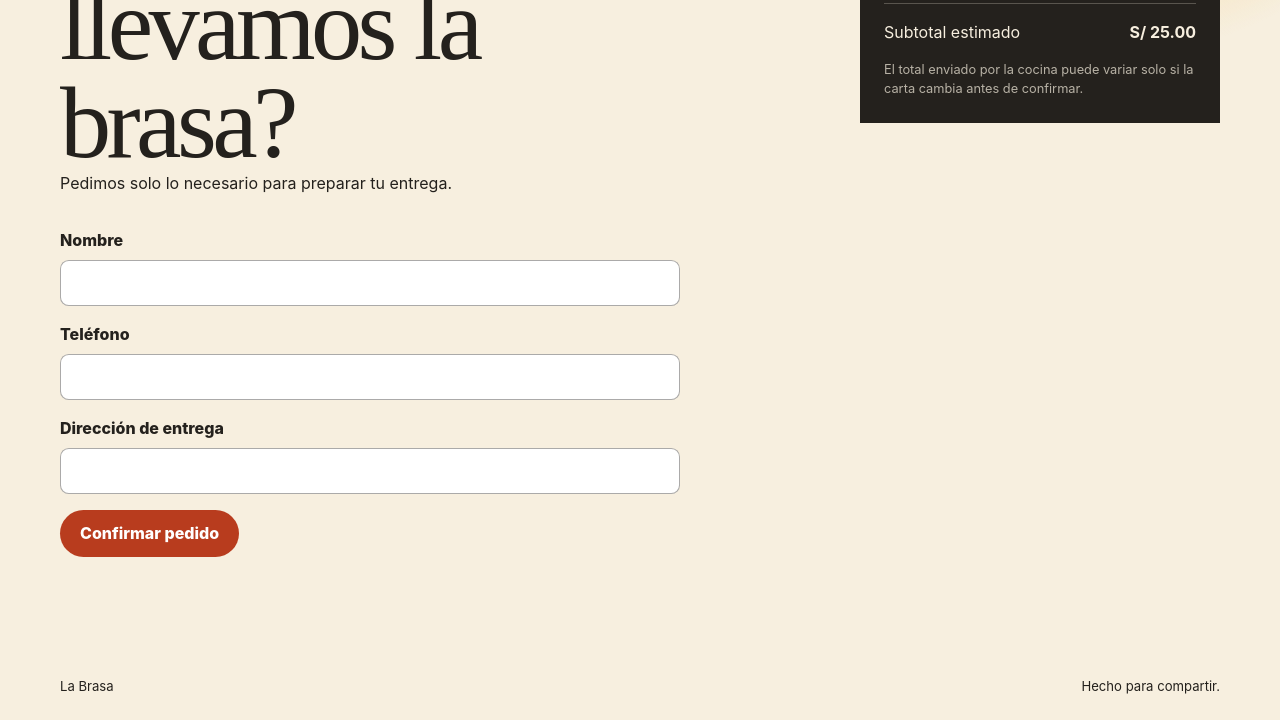
Test: cart and checkout › validates guest fields, sends no local total, retries with the same key, and displays the authoritative confirmation
The image size is (1280, 720).
(page scrolled)
Click the button "Confirmar pedido".
click(150, 534)  # box [60,510,239,557]
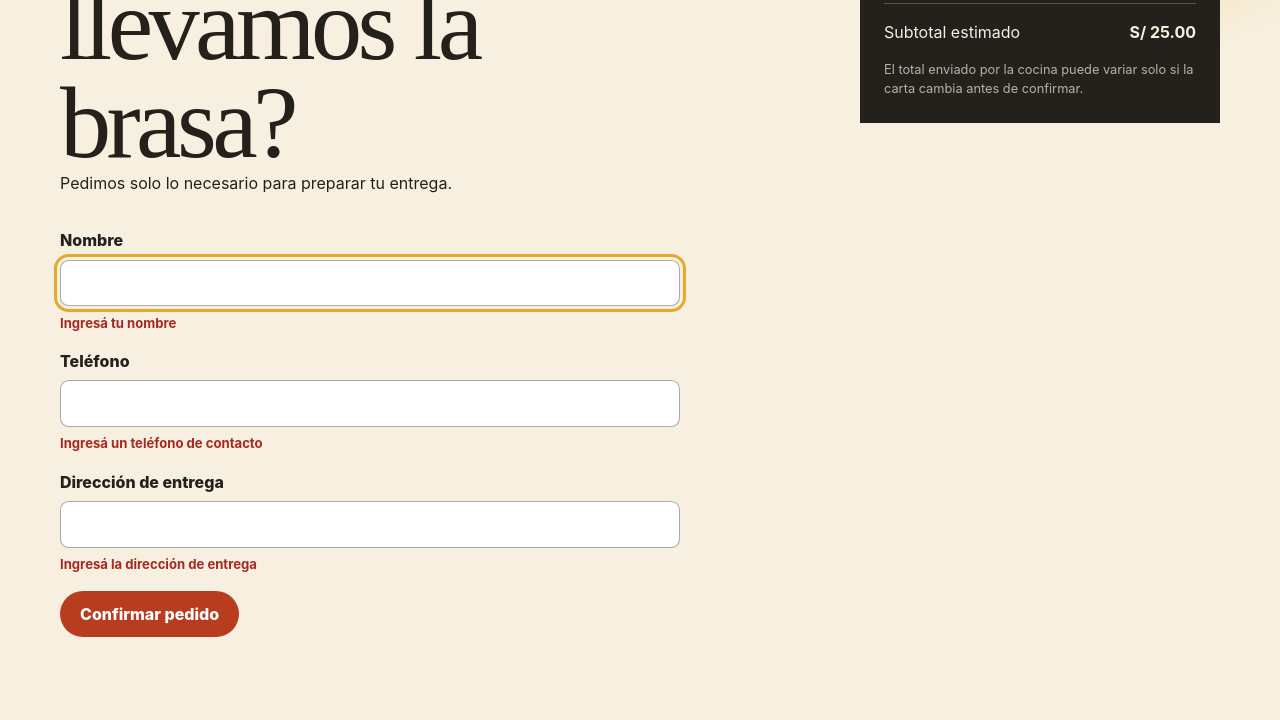
Result: the text "Ingresá tu nombre" is shown at [60,314,176,330]
Type "Ana" into the field labelled "Nombre".
click(370, 283); type("Ana")  # box [60,260,680,306]
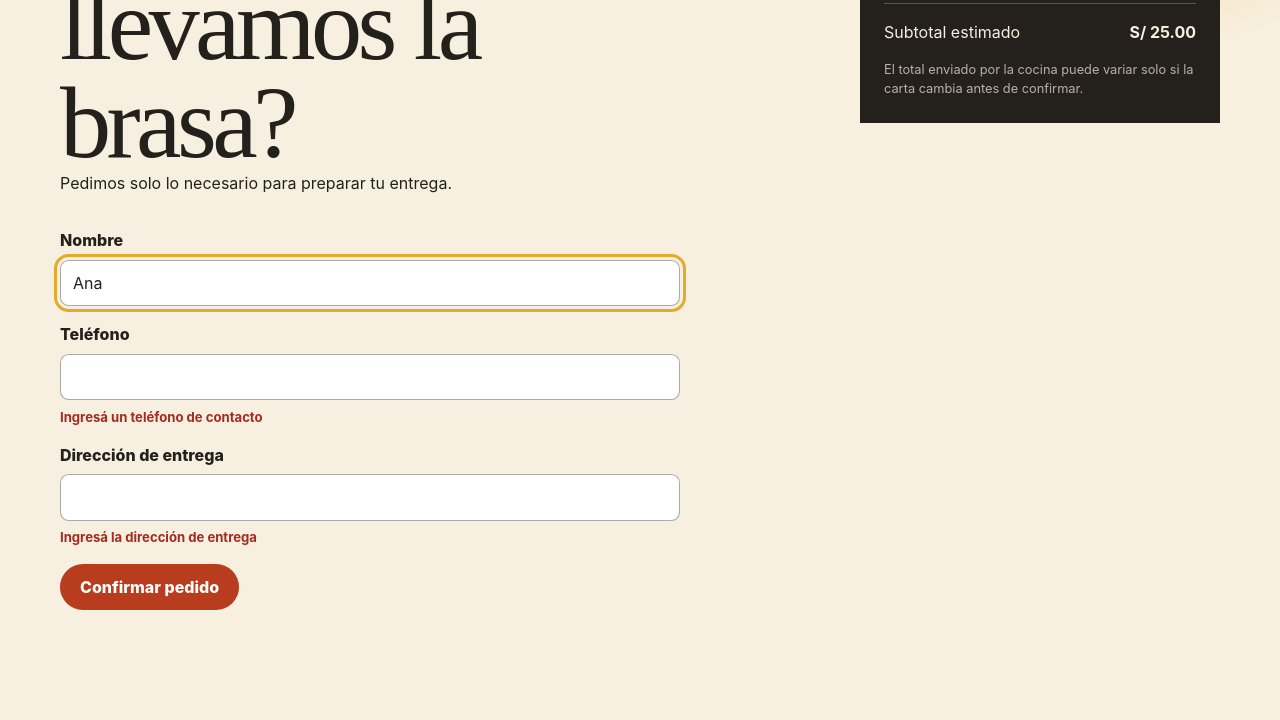
Type "999 555 444" into the field labelled "Teléfono".
click(370, 377); type("999 555 444")  # box [60,354,680,400]
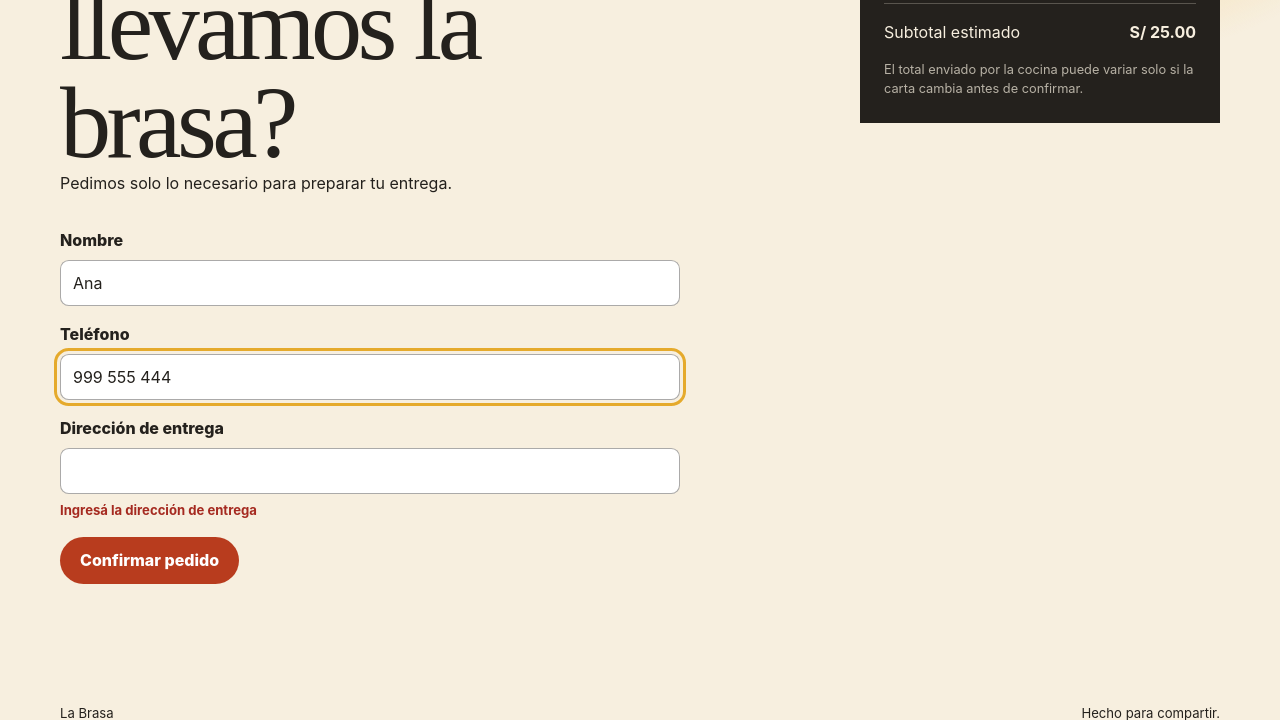
Type "Av. Lima 123" into the field labelled "Dirección de entrega".
click(370, 471); type("Av. Lima 123")  # box [60,448,680,494]
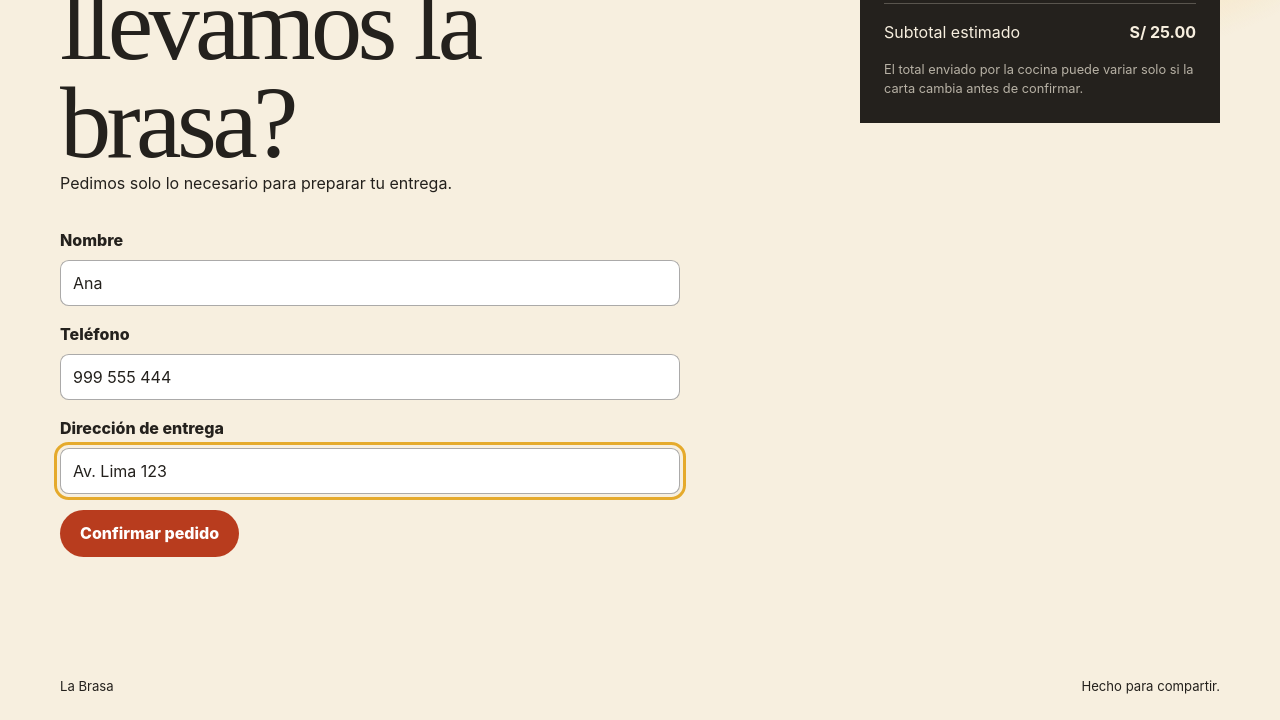
Click the button "Confirmar pedido".
click(150, 534)  # box [60,510,239,557]
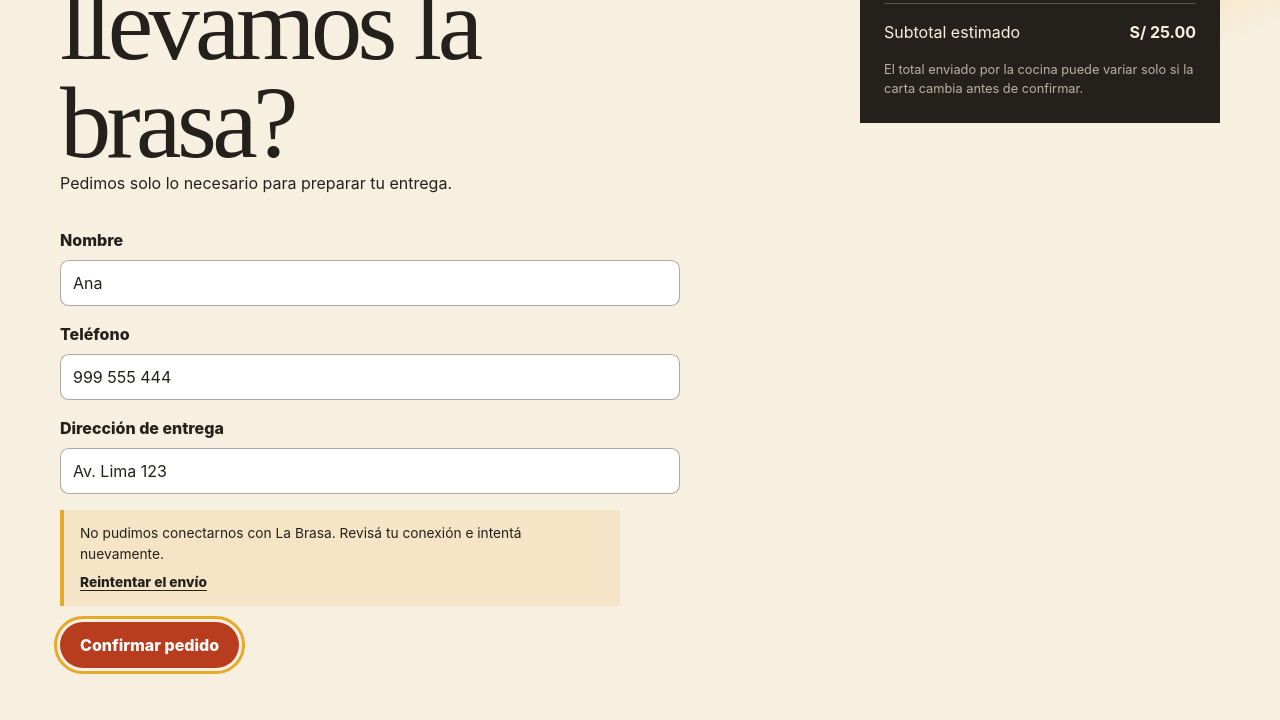
Result: the text "No pudimos conectarnos" is shown at [80,525,522,562]
Click the button "Reintentar el envío".
click(143, 583)  # box [80,572,207,593]
(page scrolled)
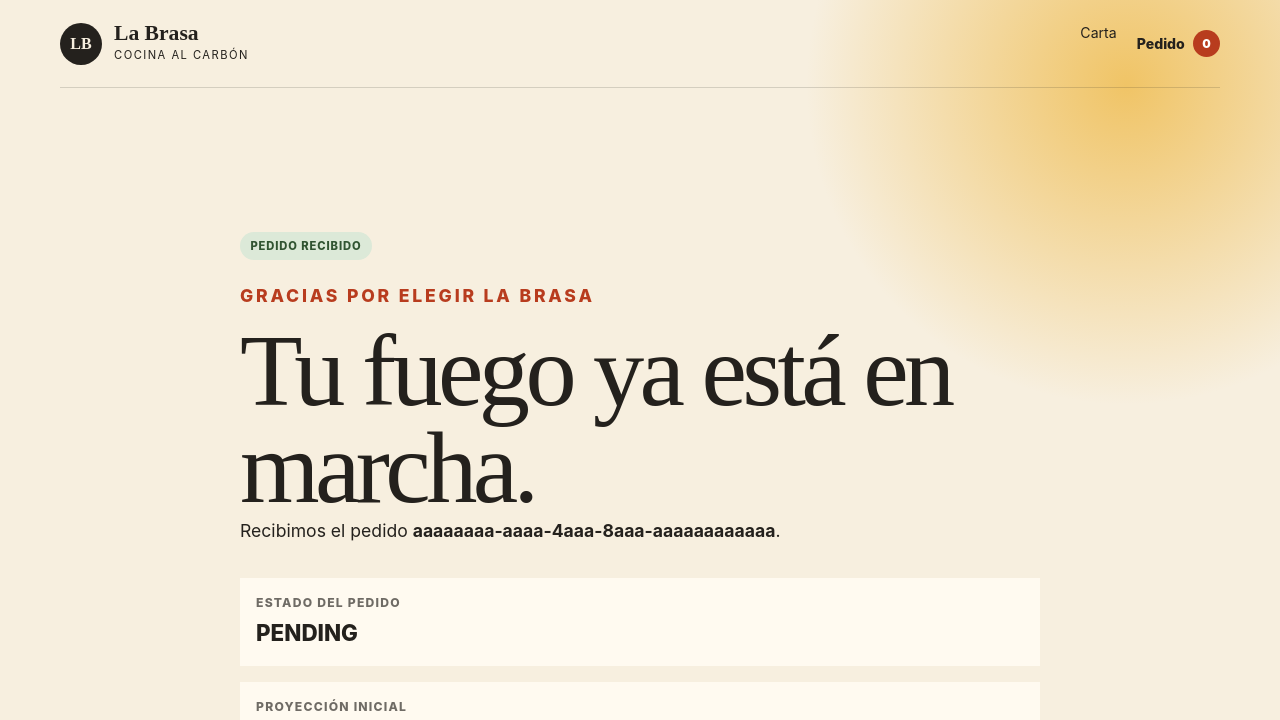
Result: the heading "Tu fuego ya está en marcha." is shown at [240,322,1040,516]
Result: the text "PENDING" is shown 2 times
Result: the text "Proyección inicial" is shown at [256,699,407,714]
